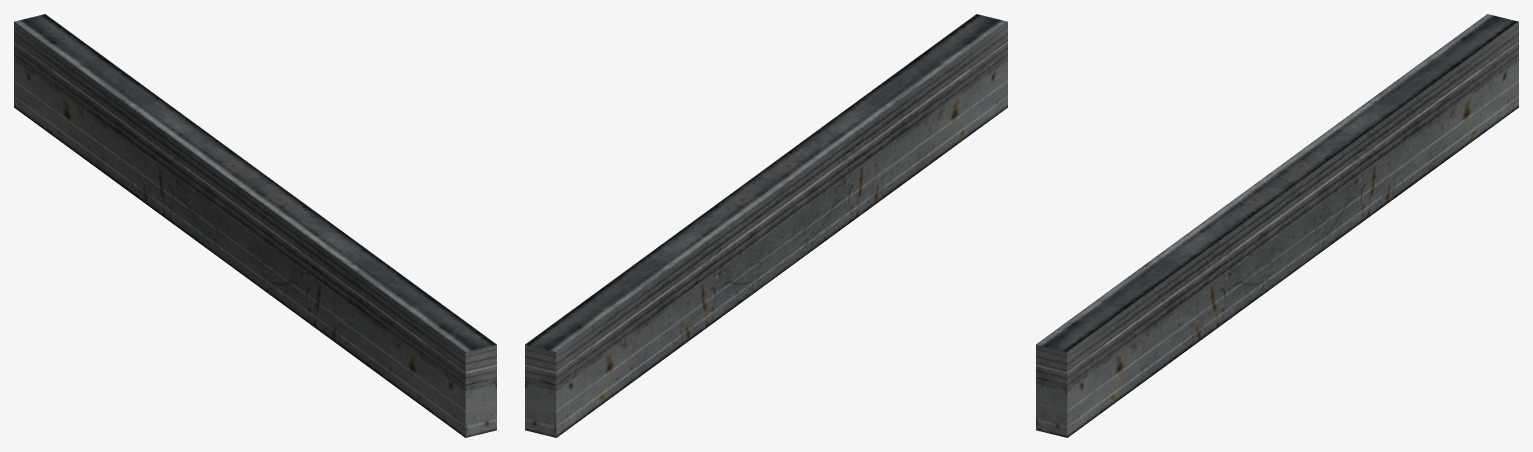
Rendered from Beam_D_01.fbx.
3 renders of one model, left to right at view 1: azimuth 30°, elevation 25°; view 2: azimuth 150°, elevation 25°; view 3: azimuth 330°, elevation 25°, orthographic.
Parts seen in each view (by area): view 1: Beam_D_01; view 2: Beam_D_01; view 3: Beam_D_01.
Boxes of the visible parts, x1=… form: Beam_D_01: x1=14, y1=14, x2=496, y2=437; Beam_D_01: x1=525, y1=14, x2=1007, y2=437; Beam_D_01: x1=1036, y1=14, x2=1518, y2=437.
Size of the model in its own units: 12.07 by 31.47 by 300.
Materials: 1 (1 with a texture image).
